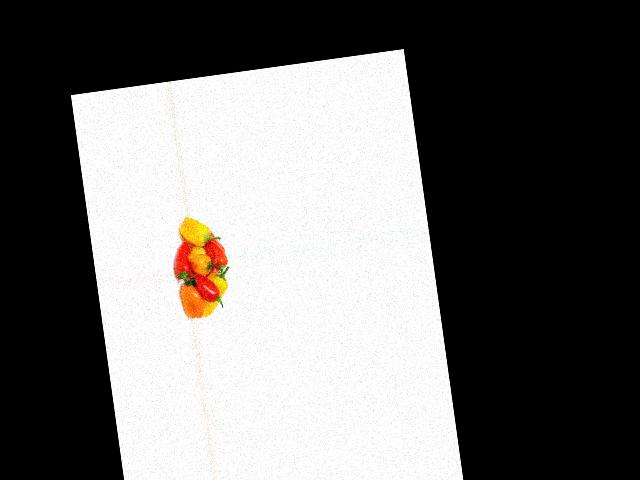bell_pepper: (198, 270, 234, 316)
